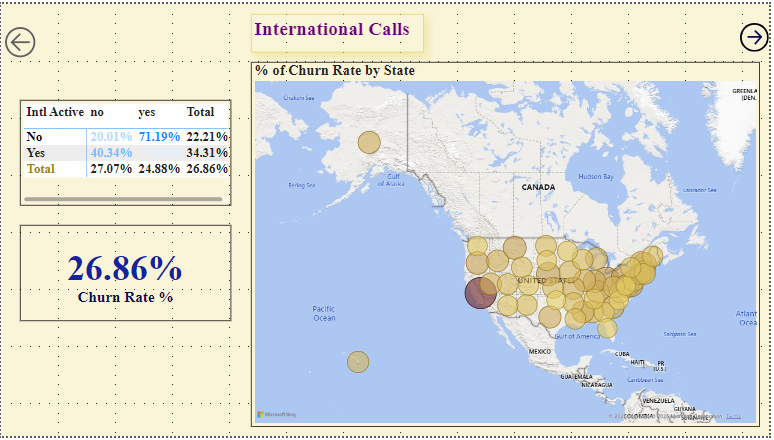

The page's visual inventory and layout, read from the dashboard file:
{"tool":"powerbi","page":{"name":"International Calls","canvas":[1280,720],"ordinal":4},"visuals":[{"type":"pivotTable","fields":{"Rows":["Databel - Data.Intl Active"],"Values":["__Measures.Churn Rate %"],"Columns":["Databel - Data.Intl Plan"]},"box":[32,160,352,176],"z":0},{"type":"map","title":"% of Churn Rate  by State","fields":{"Category":["Databel - Data.State"],"Size":["__Measures.Churn Rate %"]},"box":[416,96,848,608],"z":1000},{"type":"card","fields":{"Values":["__Measures.Churn Rate %"]},"box":[32,368,352,160],"z":2000},{"type":"actionButton","box":[0,32,64,64],"z":3000},{"type":"actionButton","box":[1232,32,48,48],"z":4000},{"type":"textbox","box":[416,16,288,64],"z":4001}]}

Visuals, with their boxes in screenshot pixels (x1, y1, x2, y2), scaled from the page's 1280x720 canvas onto the 774x440 screenshot:
pivotTable - Databel - Data.Intl Active x __Measures.Churn Rate %: Rect(19, 98, 232, 205)
"% of Churn Rate  by State" map: Rect(252, 59, 764, 430)
card - __Measures.Churn Rate %: Rect(19, 225, 232, 323)
actionButton: Rect(0, 20, 39, 59)
actionButton: Rect(745, 20, 773, 49)
textbox: Rect(252, 10, 426, 49)
